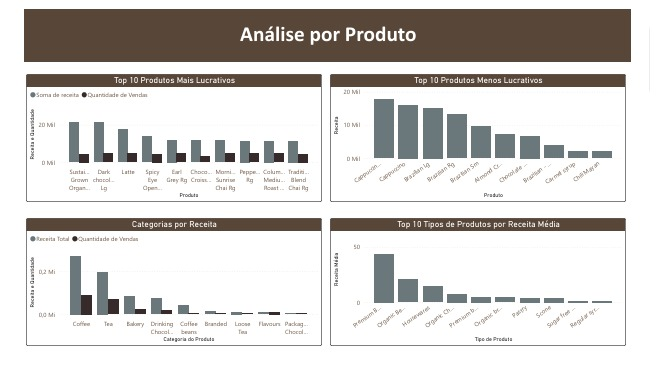

This screenshot's page, from the dashboard's own definition file:
{"tool":"powerbi","page":{"name":"Produtos","canvas":[1280,720],"ordinal":2},"visuals":[{"type":"clusteredColumnChart","title":"Categorias por Receita","fields":{"Category":["Transactions.product_category"],"Y":["Transactions.Receita Total","Transactions.Quantidade de Vendas"]},"box":[32,416,592,256],"z":0},{"type":"clusteredColumnChart","title":"Top 10 Tipos de Produtos","fields":{"Category":["Transactions.product_type"],"Y":["Transactions.Receita Total","Transactions.Quantidade de Vendas"]},"box":[640,416,592,256],"z":1000},{"type":"textbox","box":[30,0,1213.3,105],"z":2000},{"type":"clusteredColumnChart","title":"Top 10 Produtos Menos Lucrativos","fields":{"Category":["Transactions.product_detail"],"Y":["Transactions.Receita Total","Transactions.Quantidade de Vendas"]},"box":[640,128,592,256],"z":3000},{"type":"clusteredColumnChart","title":"Top 10 Produtos Mais Lucrativos","fields":{"Category":["Transactions.product_detail"],"Y":["Transactions.Receita Total","Transactions.Quantidade de Vendas"]},"box":[32,128,592,256],"z":4000}]}

Visuals, with their boxes on the page's 1280x720 design canvas (x1, y1, x2, y2). These are canvas units, not pixel positions in the 657x381 screenshot, which may show the page scaled, cropped or inside an application window:
"Categorias por Receita" clusteredColumnChart: 32/416/624/672
"Top 10 Tipos de Produtos" clusteredColumnChart: 640/416/1232/672
textbox: 30/0/1243/105
"Top 10 Produtos Menos Lucrativos" clusteredColumnChart: 640/128/1232/384
"Top 10 Produtos Mais Lucrativos" clusteredColumnChart: 32/128/624/384
